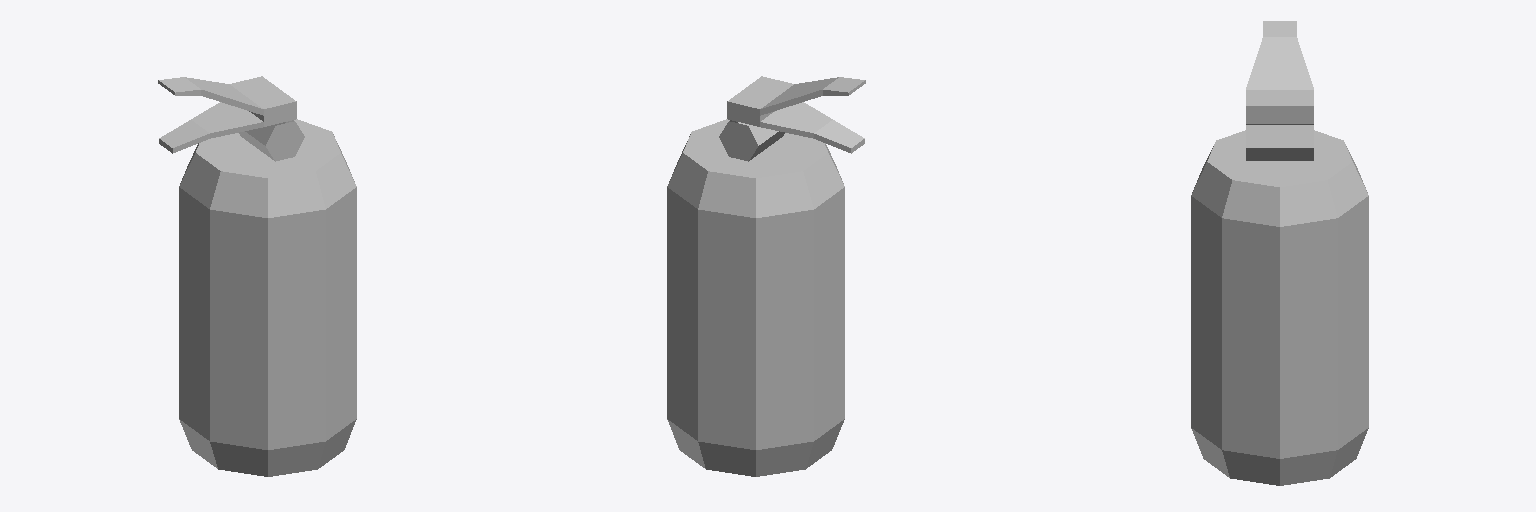
File: extinguisher.obj
3 renders of one model, left to right at view 1: azimuth 30°, elevation 25°; view 2: azimuth 150°, elevation 25°; view 3: azimuth 270°, elevation 25°, orthographic.
Parts seen in each view (by area): view 1: pCylinder4 group7 group5, group7 group5 pCube20, group7 group5 pCylinder5; view 2: pCylinder4 group7 group5, group7 group5 pCube20, group7 group5 pCylinder5; view 3: pCylinder4 group7 group5, group7 group5 pCube20, group7 group5 pCylinder5.
Boxes of the visible parts, x1,y1,x2,y2 form: pCylinder4 group7 group5: [179, 119, 356, 476]; group7 group5 pCube20: [158, 76, 296, 153]; group7 group5 pCylinder5: [239, 120, 304, 161]; pCylinder4 group7 group5: [667, 119, 844, 476]; group7 group5 pCube20: [727, 76, 865, 153]; group7 group5 pCylinder5: [719, 120, 784, 161]; pCylinder4 group7 group5: [1191, 130, 1368, 485]; group7 group5 pCube20: [1246, 21, 1313, 123]; group7 group5 pCylinder5: [1246, 124, 1313, 160].
Bounding box in the file's own units: 2.08 × 4.22 × 1.78.